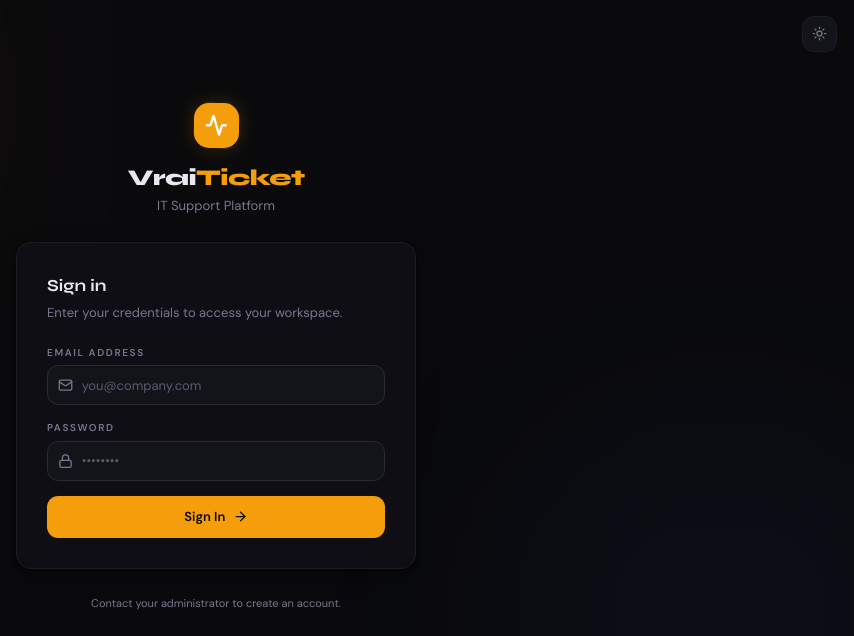
Test case: LoginPage — validation › shows 'Password is required' when password empty
In the field with placeholder "you@company.com": (216, 385) [47,365,385,405], type "a@b.com"
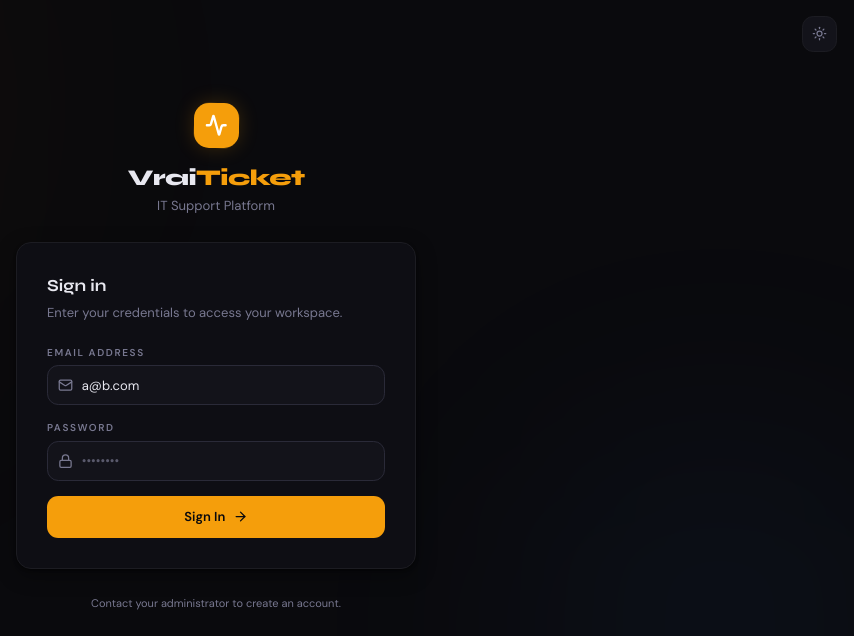
Click the button "Sign In": click(216, 517) [47,496,385,538]
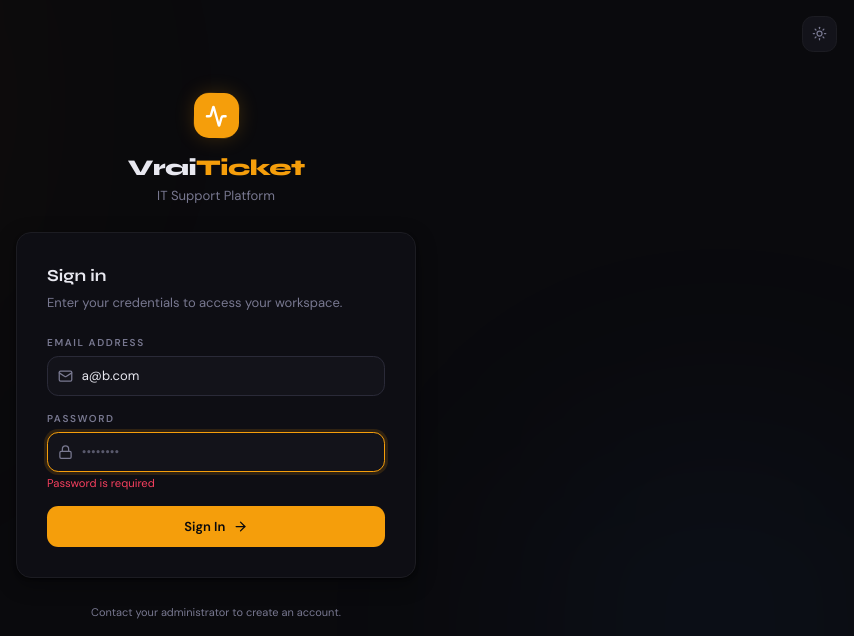
Expected: the text "Password is required" is shown, [47,476,155,490]
